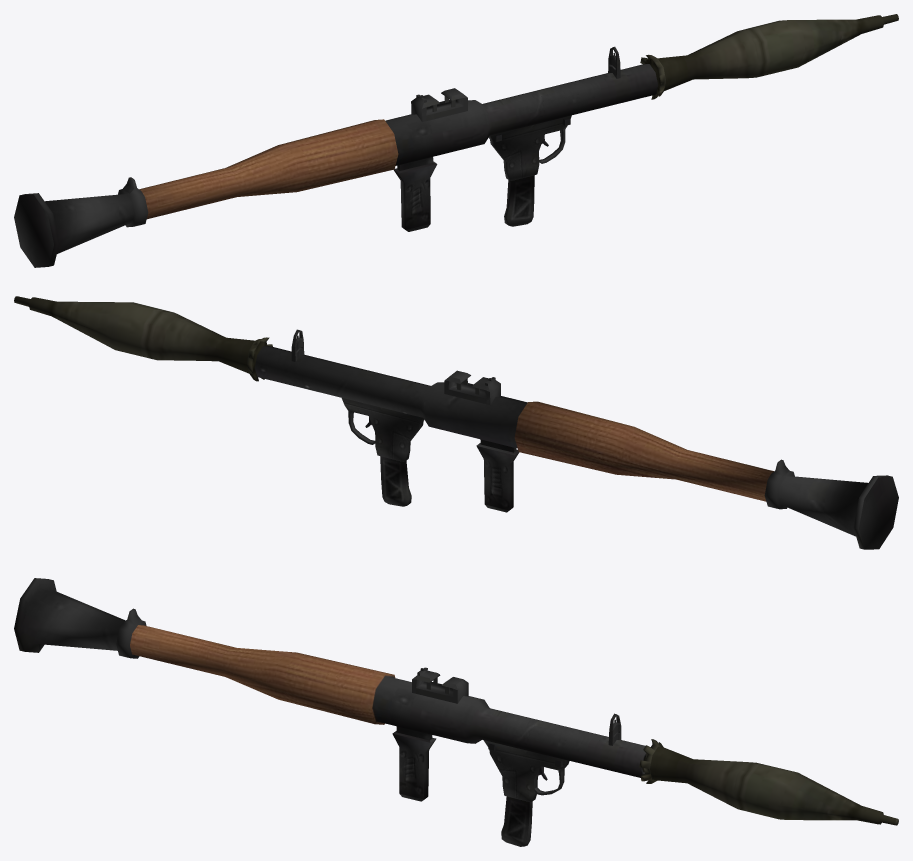
Rendered from roquette.glb.
3 views of the same model, one above another, from view 1: azimuth 30°, elevation 25°; view 2: azimuth 150°, elevation 25°; view 3: azimuth 330°, elevation 25° (orthographic).
Parts seen in each view (by area): view 1: RPG7, RPG7 Rocket; view 2: RPG7, RPG7 Rocket; view 3: RPG7, RPG7 Rocket.
Part boxes in pixels (bbox=[...]): RPG7: bbox=[14, 46, 658, 267]; RPG7 Rocket: bbox=[640, 14, 898, 99]; RPG7: bbox=[255, 329, 898, 549]; RPG7 Rocket: bbox=[14, 296, 272, 381]; RPG7: bbox=[14, 578, 646, 846]; RPG7 Rocket: bbox=[639, 739, 898, 825].
Size of the model in its own units: 2.33 by 0.3935 by 0.1879.
Materials: 1 (1 with a texture image).
